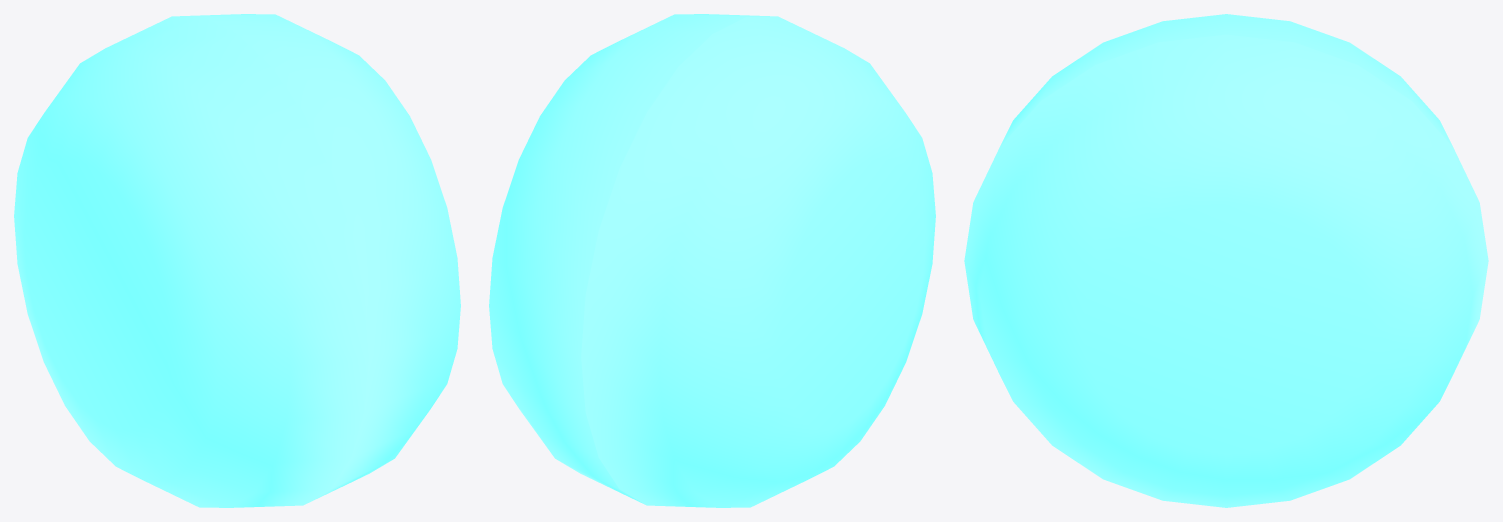
The model's file is SM_AGV_Button_HMI_2.fbx.
The picture shows the model from 3 angles, left to right: view 1: azimuth 30°, elevation 25°; view 2: azimuth 150°, elevation 25°; view 3: azimuth 270°, elevation 25°; orthographic projection.
Visible parts, largest first — view 1: SM_AGV_Button_HMI_2.001; view 2: SM_AGV_Button_HMI_2.001; view 3: SM_AGV_Button_HMI_2.001.
Boxes of the visible parts, bbox=[...] form: SM_AGV_Button_HMI_2.001: bbox=[14, 14, 460, 507]; SM_AGV_Button_HMI_2.001: bbox=[489, 14, 935, 507]; SM_AGV_Button_HMI_2.001: bbox=[964, 14, 1488, 507].
Bounding box in the file's own units: 0.00944 × 0.0153 × 0.0146.
